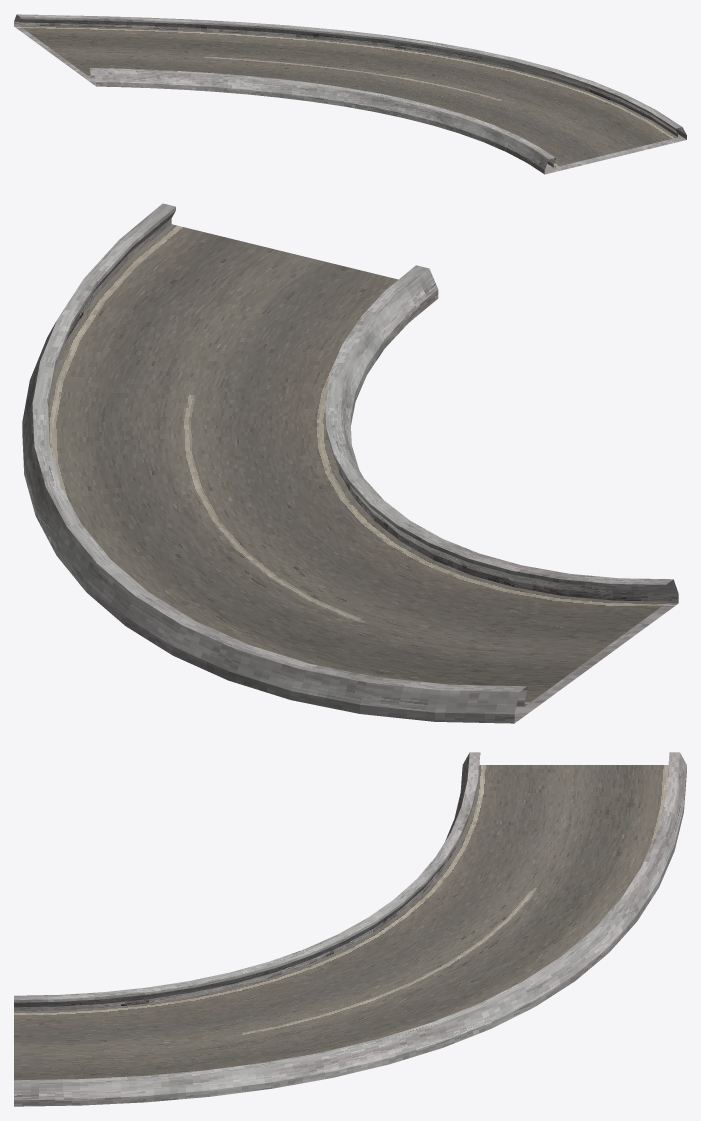
The model's file is road-Turn-Flat-BiSlopeUp-Up1-Left-Size3.glb.
3 renders of one model, top to bottom at view 1: azimuth 30°, elevation 25°; view 2: azimuth 150°, elevation 25°; view 3: azimuth 270°, elevation 25°, orthographic. The views are drawn at different scales.
Visible parts, largest first — view 1: road-Turn-Flat-BiSlopeUp-Up1-Left-Size3; view 2: road-Turn-Flat-BiSlopeUp-Up1-Left-Size3; view 3: road-Turn-Flat-BiSlopeUp-Up1-Left-Size3.
Part boxes in pixels (x1=…): road-Turn-Flat-BiSlopeUp-Up1-Left-Size3: x1=14, y1=14, x2=686, y2=174; road-Turn-Flat-BiSlopeUp-Up1-Left-Size3: x1=22, y1=203, x2=678, y2=723; road-Turn-Flat-BiSlopeUp-Up1-Left-Size3: x1=14, y1=752, x2=686, y2=1106.
Size of the model in its own units: 3 by 0.3758 by 3.
2 materials, 2 textured.
